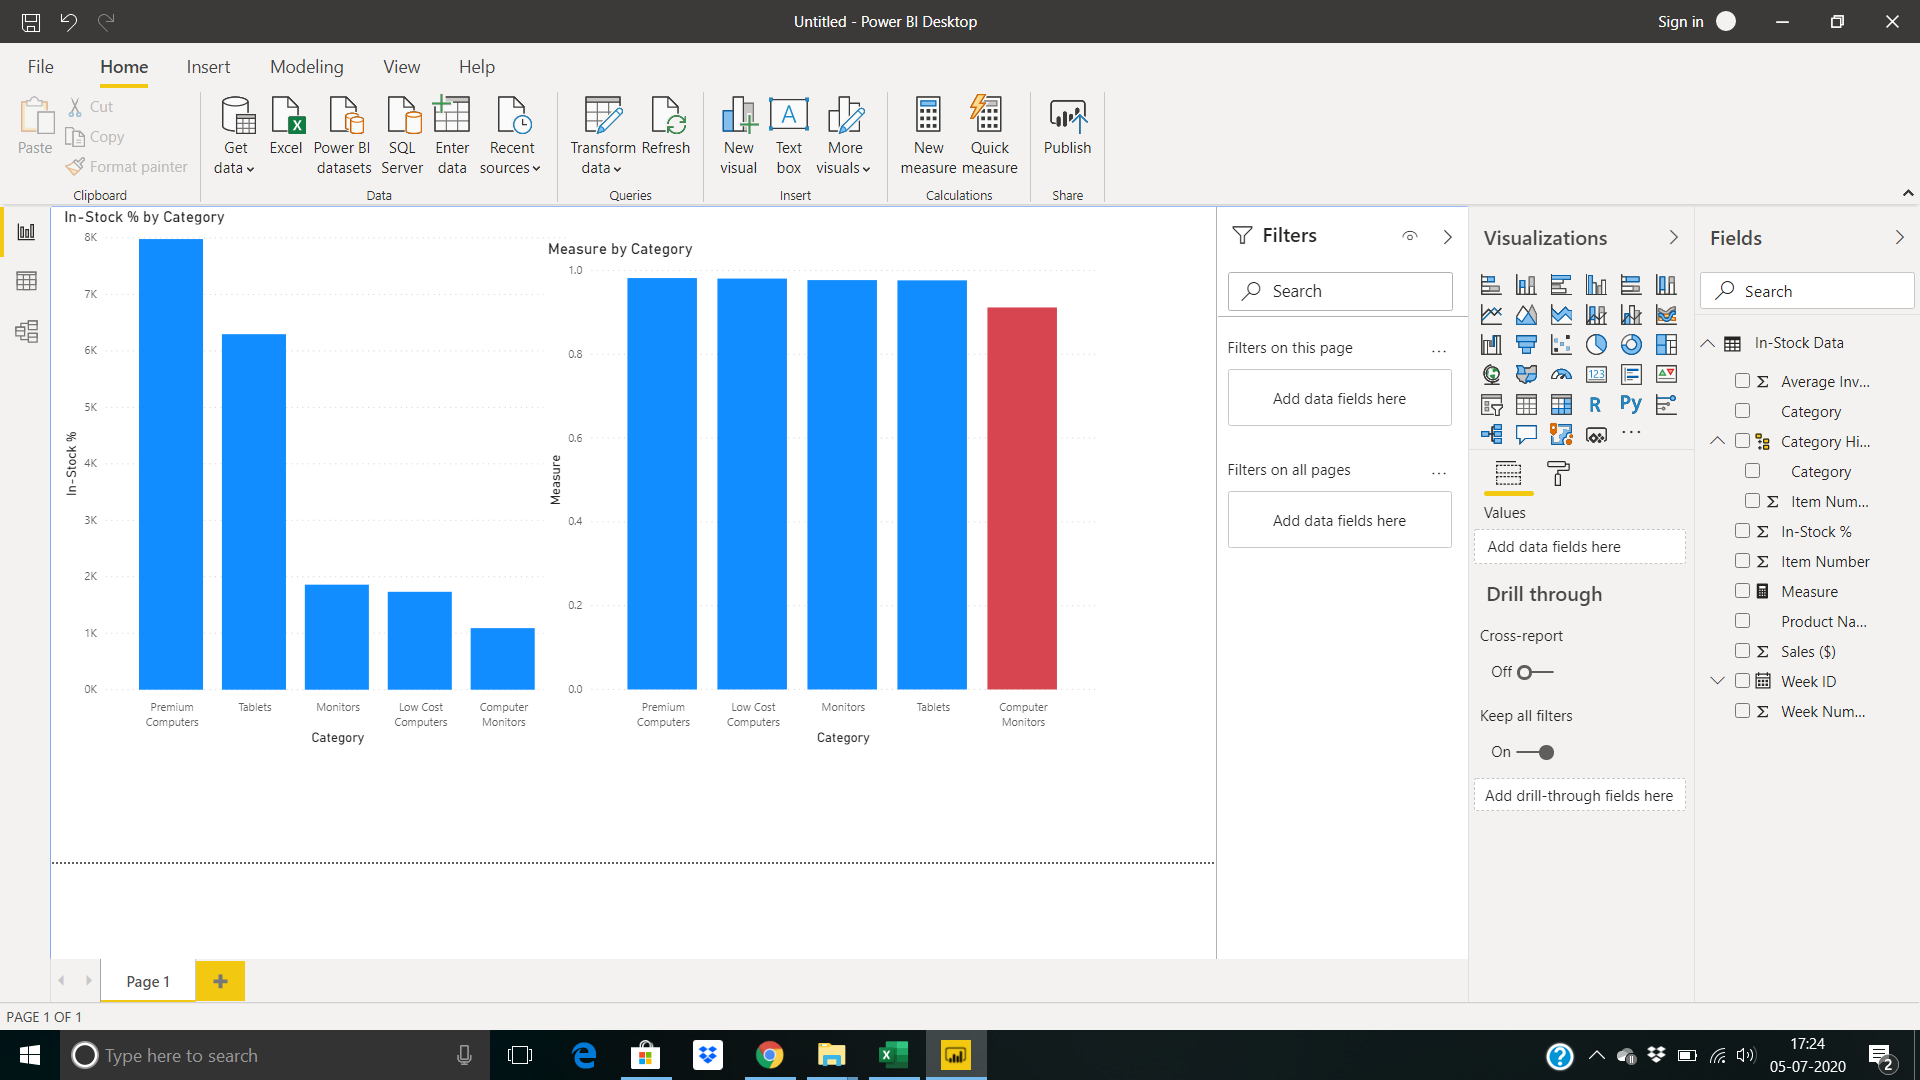

The page's visual inventory and layout, read from the dashboard file:
{"tool":"powerbi","page":{"name":"Page 1","canvas":[1280,720],"ordinal":0},"visuals":[{"type":"columnChart","fields":{"Category":["In-Stock Data.Category"],"Y":["Sum(In-Stock Data.In-Stock %)"]},"box":[9.6,0,565.8,596.1],"z":0},{"type":"clusteredColumnChart","fields":{"Y":["In-Stock Data.Measure"],"Category":["In-Stock Data.Category","In-Stock Data.Category Hierarchy.Category","In-Stock Data.Category Hierarchy.Item Number"]},"box":[541.1,35.7,611.2,560.3],"z":1}]}

Visuals, with their boxes on the page's 1280x720 design canvas (x1, y1, x2, y2). These are canvas units, not pixel positions in the 1920x1080 screenshot, which may show the page scaled, cropped or inside an application window:
columnChart - In-Stock Data.Category x Sum(In-Stock Data.In-Stock %): [x1=10, y1=0, x2=575, y2=596]
clusteredColumnChart - In-Stock Data.Measure x In-Stock Data.Category: [x1=541, y1=36, x2=1152, y2=596]
